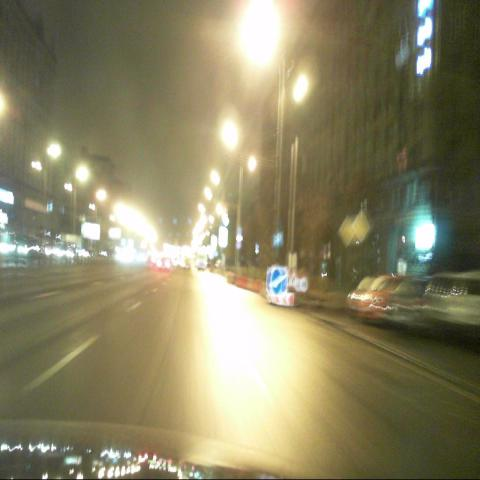4_2_2: (270, 267, 288, 296)
